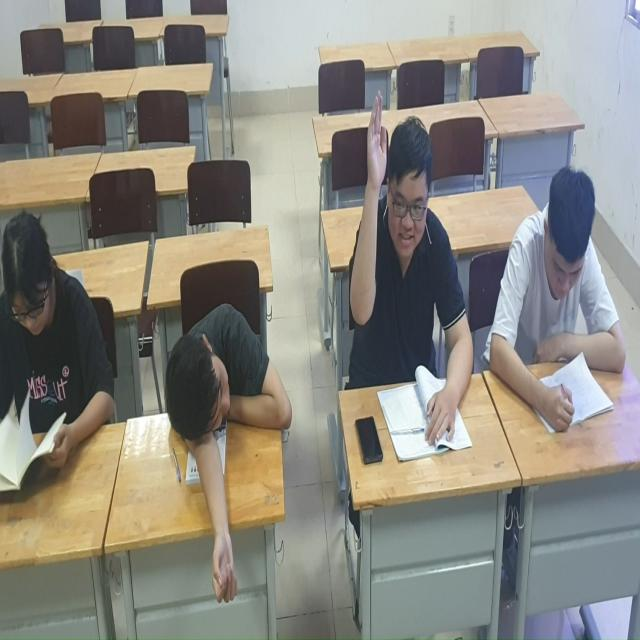raise_hand: (345, 94, 475, 454)
read: (498, 156, 635, 440), (1, 204, 128, 502)
sleep: (159, 279, 295, 606)
